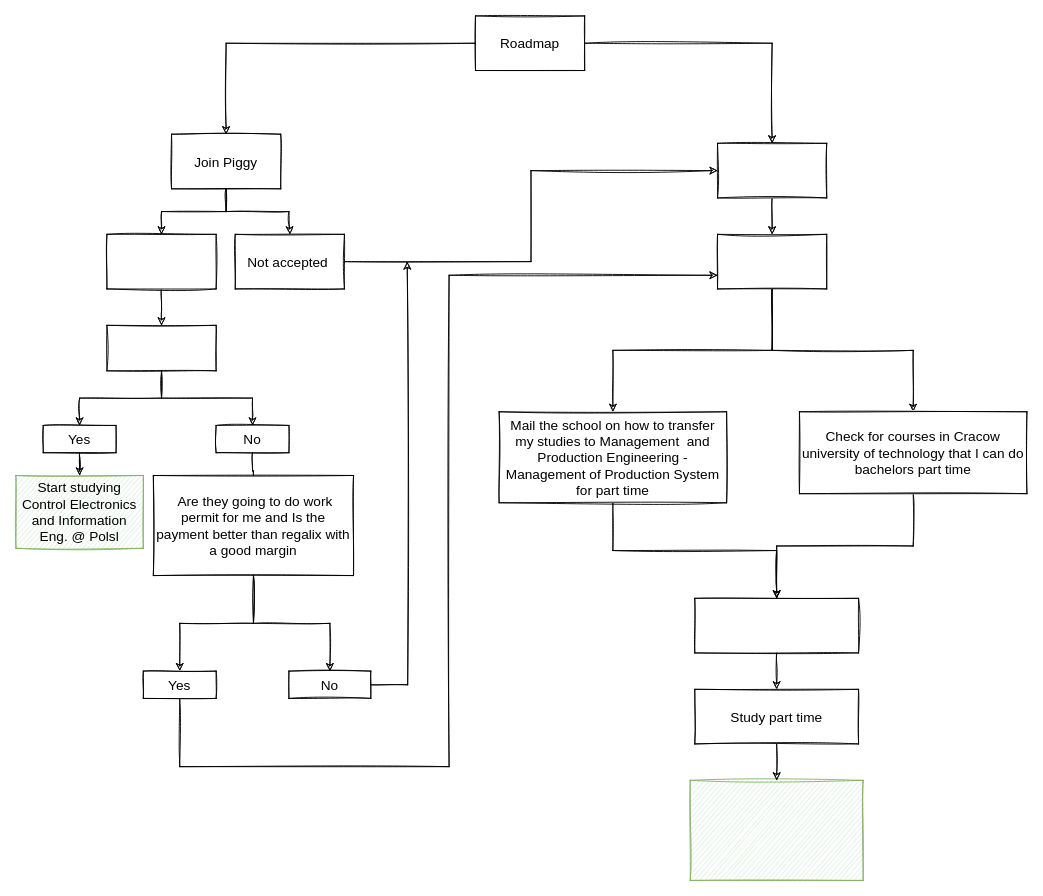
The diagram is 1043 pixels wide and 896 high, and some of its shapes have lost their labels. The box of each missing label's shape, as (x1, y1, x2, y2) in pixels:
Flexible work hours: (106, 324, 216, 371)
Get accepted: (106, 233, 216, 289)
Look for good Engineering part time course: (717, 233, 827, 289)
Regalix: (717, 142, 827, 198)
School accepted: (694, 597, 859, 653)
Study Full time masters in Robotics Engineering: (689, 779, 863, 880)
